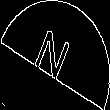N_SW: (32, 23, 78, 87)
